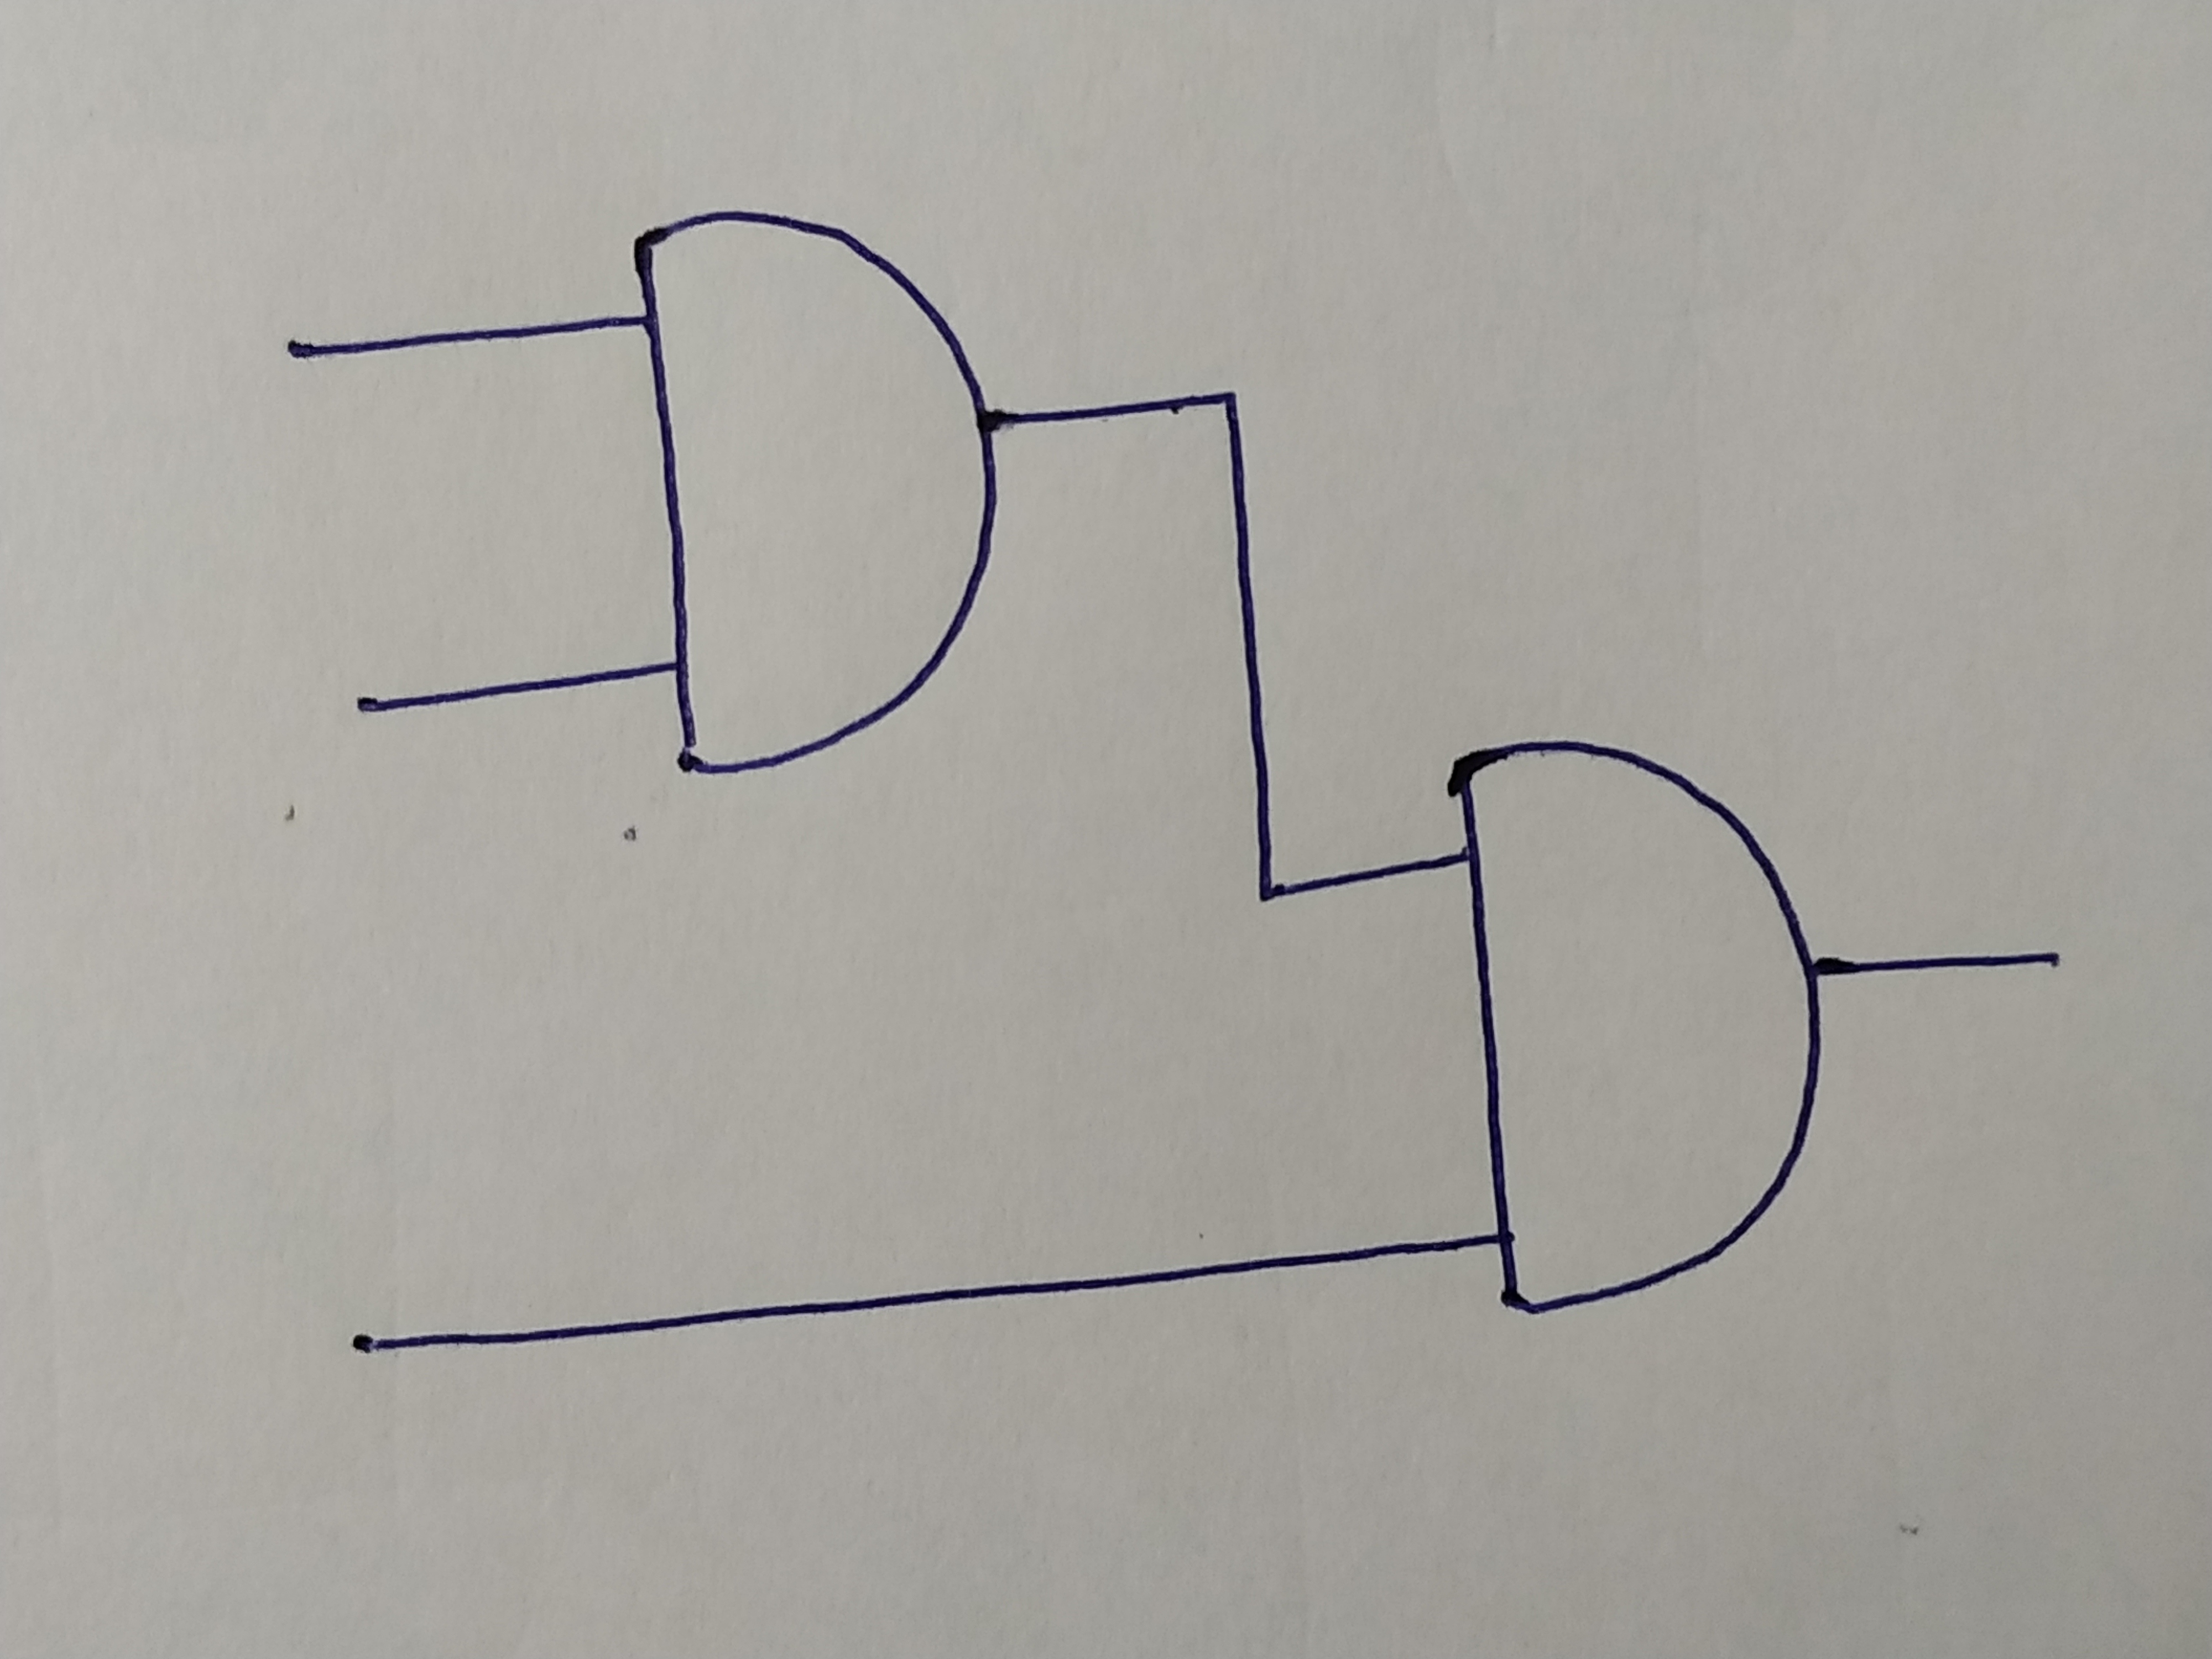and: (1456, 739, 1811, 1312), (639, 211, 995, 775)
